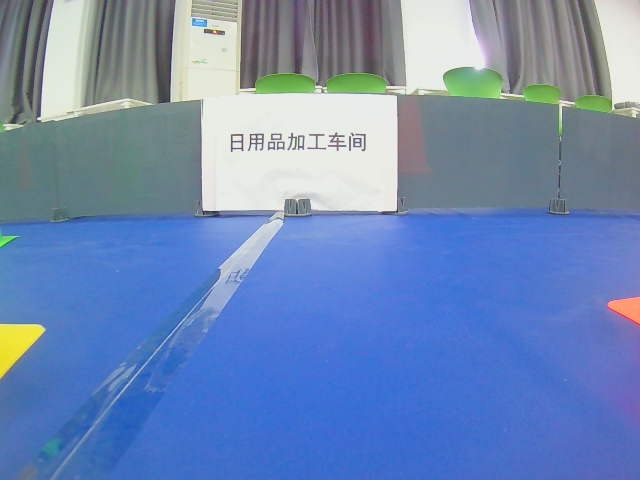target: (229, 132, 368, 153)
